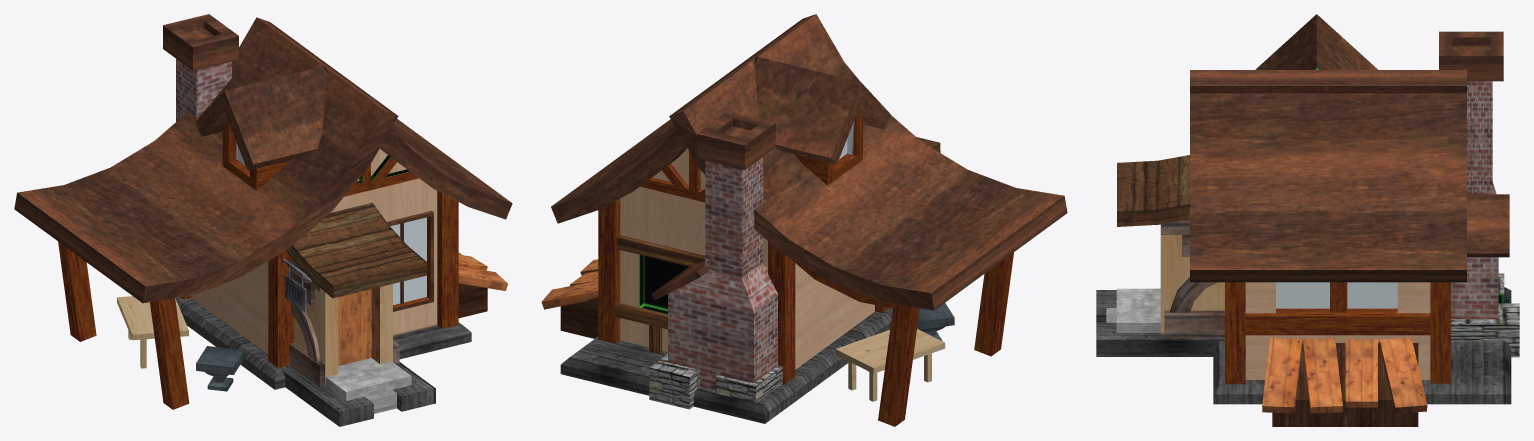
3 renders of one model, left to right at view 1: azimuth 30°, elevation 25°; view 2: azimuth 150°, elevation 25°; view 3: azimuth 270°, elevation 25°, orthographic. The views are drawn at different scales.
Parts seen in each view (by area): view 1: L-Ext002; view 2: L-Ext002; view 3: L-Ext002.
Boxes of the visible parts, x1,y1,x2,y2 form: L-Ext002: [14, 14, 512, 426]; L-Ext002: [541, 14, 1067, 426]; L-Ext002: [1096, 14, 1519, 426].
Bounding box in the file's own units: 170 × 107 × 144.
1 material, 1 textured.
